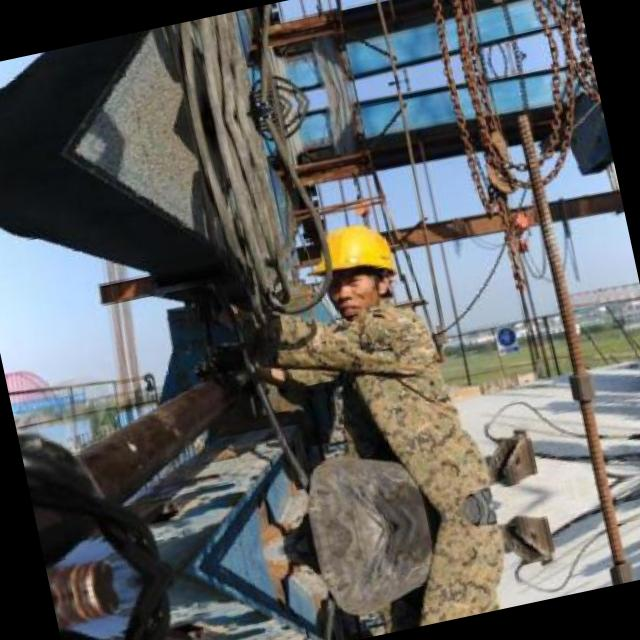helmet: (304, 205, 413, 328)
